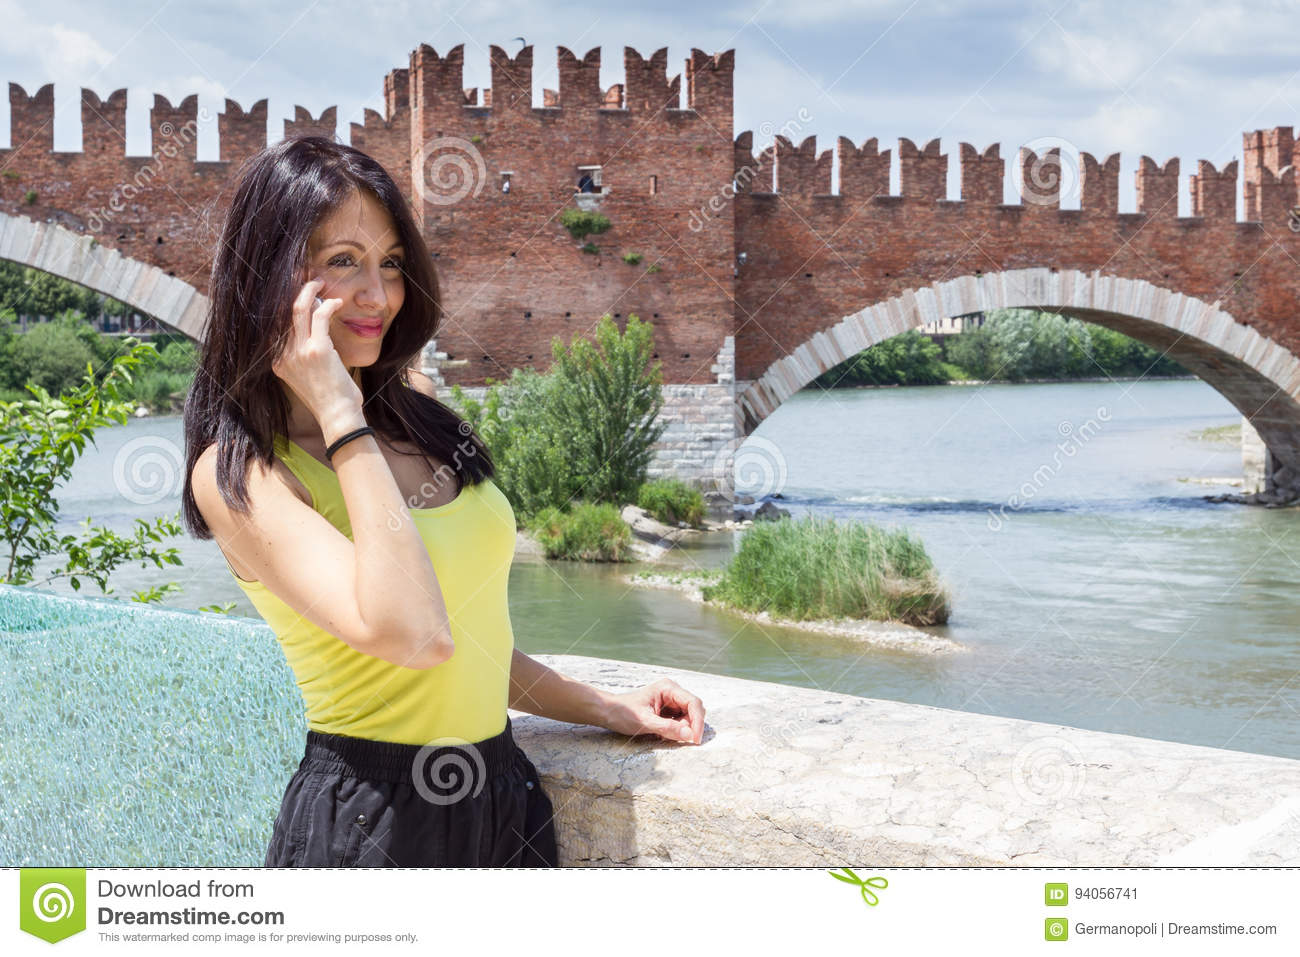phone: (263, 273, 340, 341)
talk: (266, 231, 409, 416)
